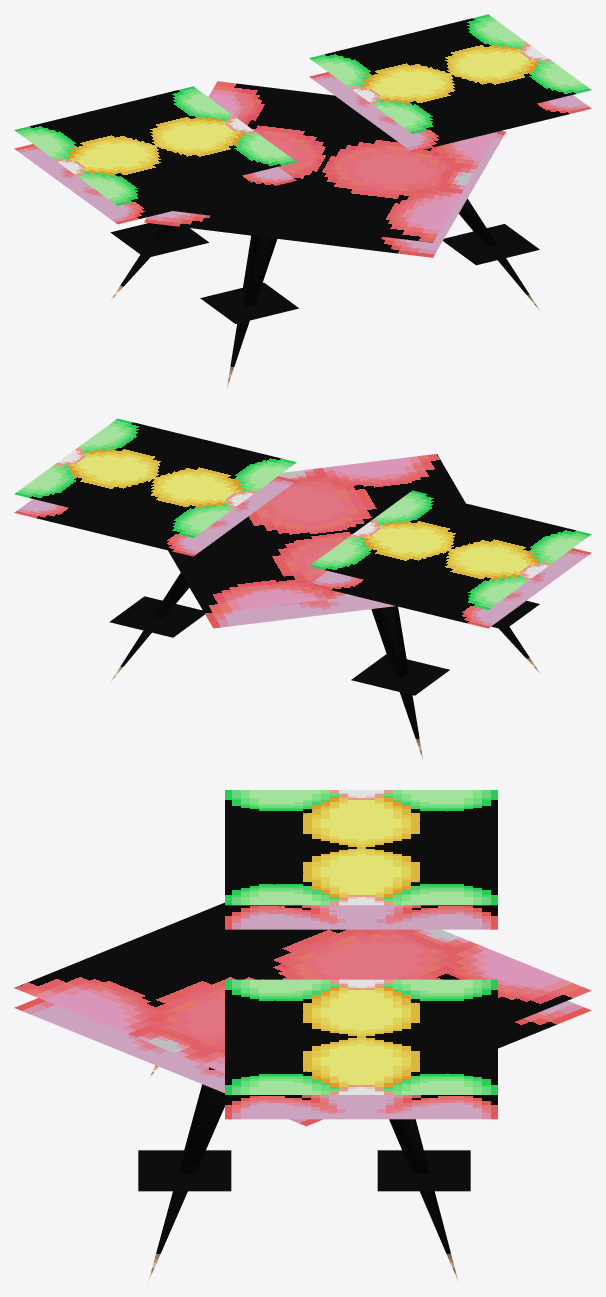
3 views of the same model, one above another, from view 1: azimuth 30°, elevation 25°; view 2: azimuth 150°, elevation 25°; view 3: azimuth 270°, elevation 25° (orthographic). The views are drawn at different scales.
Visible parts, largest first — view 1: 3668kg_ga_ta1; view 2: 3668kg_ga_ta1; view 3: 3668kg_ga_ta1.
Boxes of the visible parts, bbox=[...] form: 3668kg_ga_ta1: bbox=[14, 14, 591, 387]; 3668kg_ga_ta1: bbox=[14, 418, 591, 760]; 3668kg_ga_ta1: bbox=[14, 790, 591, 1281].
Size of the model in its own units: 1.85 by 0.6775 by 1.48.
Materials: 4 (4 with a texture image).
